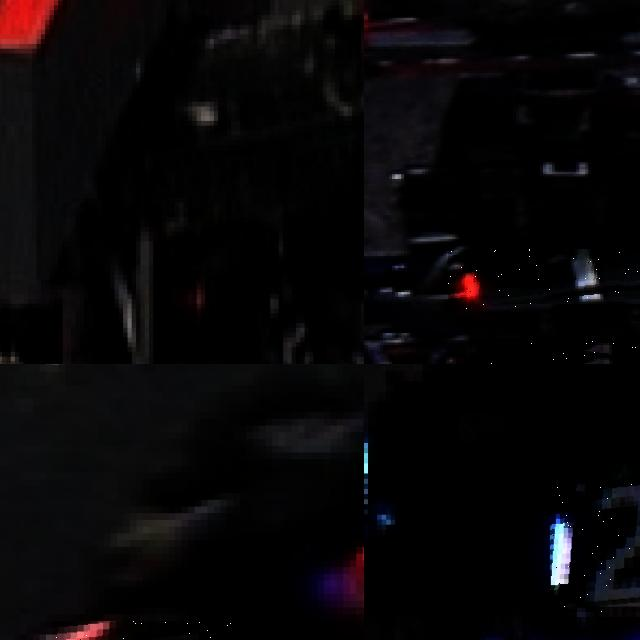B2: (549, 484, 640, 612)
R1: (448, 249, 640, 309), (469, 337, 640, 364)
